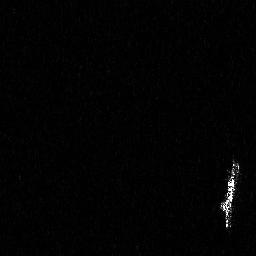ship: (217, 155, 241, 231)
